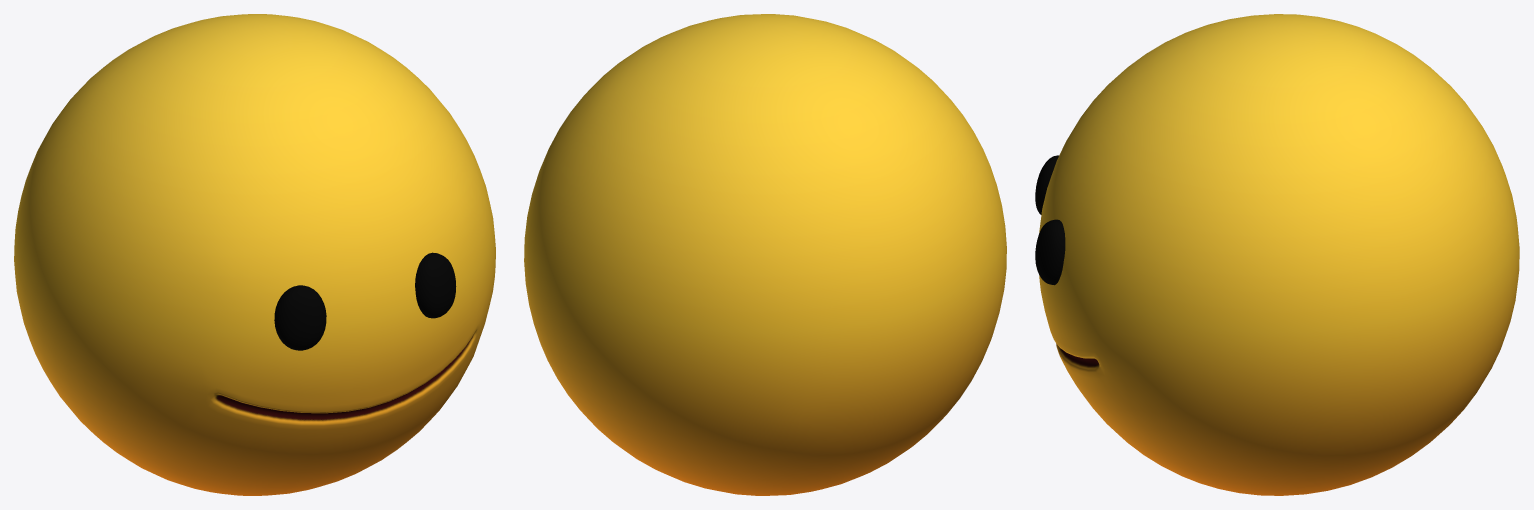
File: smiley.glb
3 views of the same model, side by side, from view 1: azimuth 30°, elevation 25°; view 2: azimuth 150°, elevation 25°; view 3: azimuth 270°, elevation 25° (orthographic).
Visible parts, largest first — view 1: SmileHead; view 2: SmileHead; view 3: SmileHead.
Boxes of the visible parts, box(x1,y1,x2,y2) form: SmileHead: box(14, 14, 495, 495); SmileHead: box(524, 14, 1006, 495); SmileHead: box(1035, 14, 1519, 495).
Size of the model in its own units: 0.6575 by 0.6575 by 0.6612.
1 material, 1 textured.
